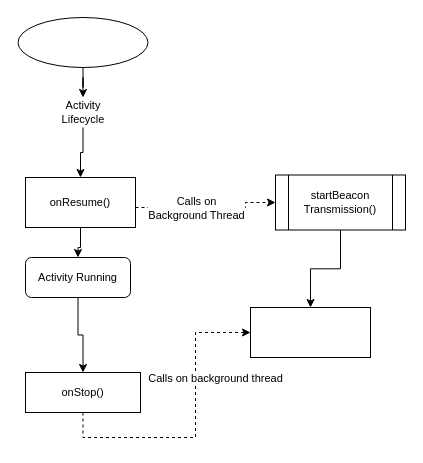
The diagram is 423 pixels wide and 463 high, and some of its shapes have lost their labels. The shapes that lost their labels are listed below. From the top down, each one's centre as x and y in pixels, then its label:
the point at 82,42: Homescreen Activity launched
the point at 310,332: stopTransmission()
